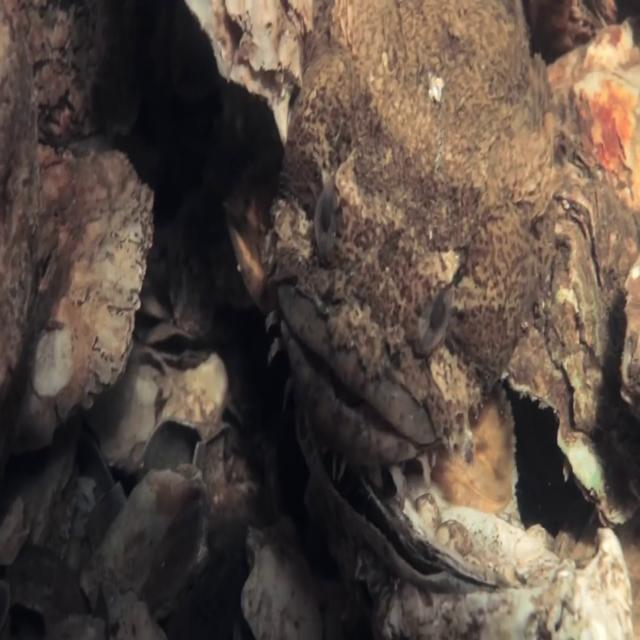Oyster-Closed: (12, 154, 157, 442), (173, 7, 312, 146)
Oyster-Open: (289, 412, 572, 604)
